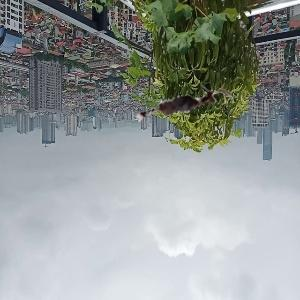drone: (123, 52, 234, 163)
